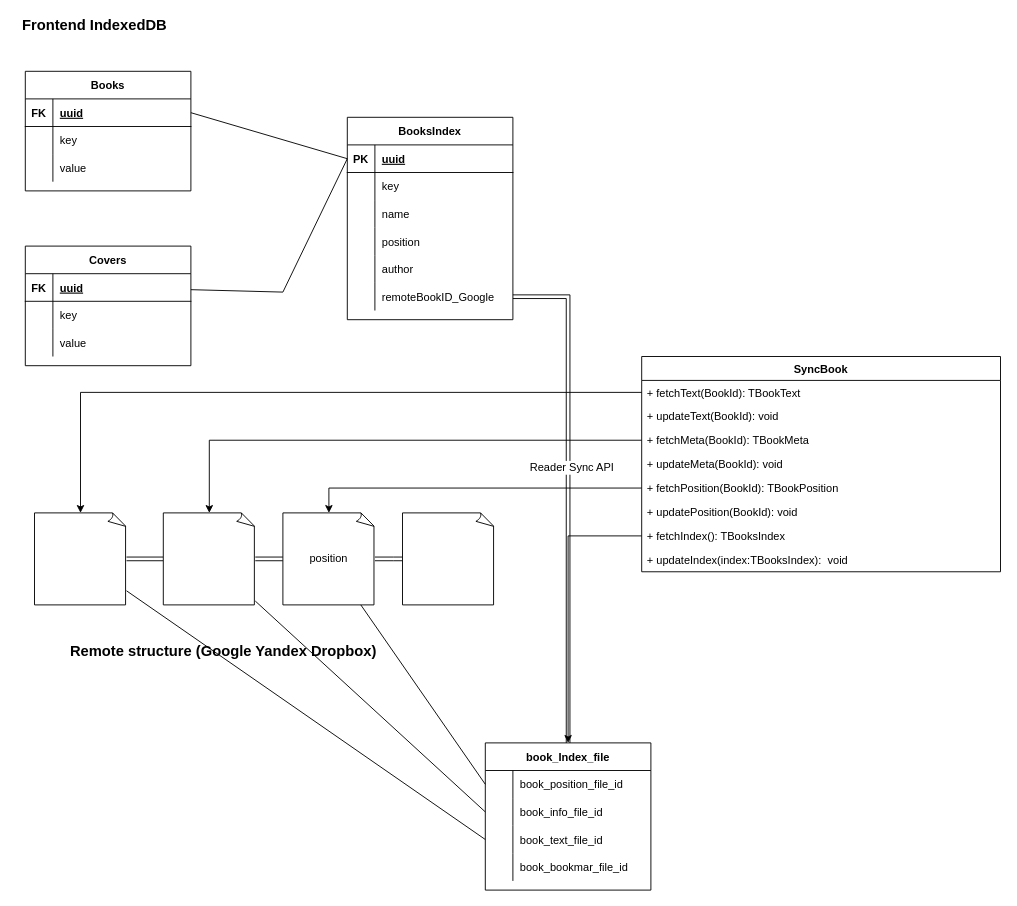
Some shapes in this 1017 by 906 pixel diagram are drawn without their labels. Here are the shapes that lost their labels. From the top down, the centre of each, then its label:
pixel 80 558: Book
pixel 208 558: cover/info
pixel 448 558: bookmarks
